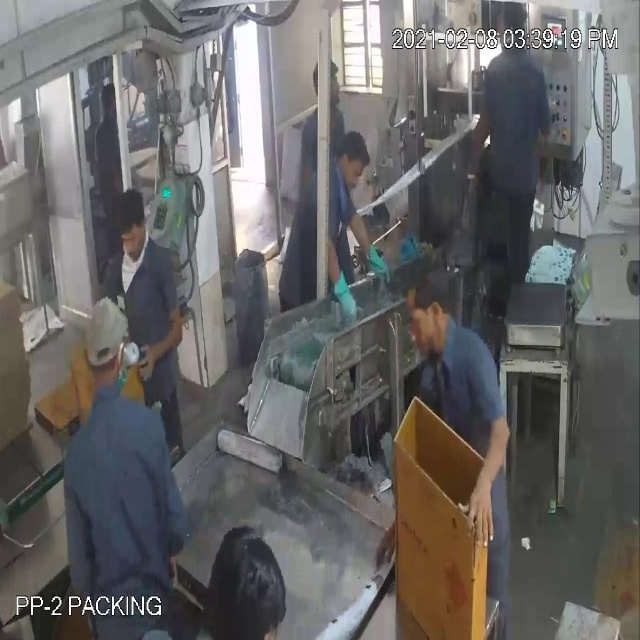Sin_guantes: (456, 403, 512, 555), (131, 300, 190, 378)
